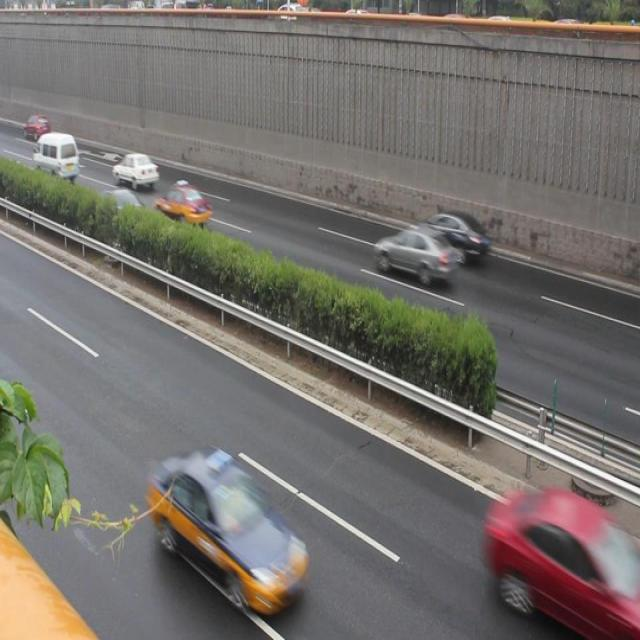car: (474, 481, 640, 640), (152, 446, 302, 605), (370, 225, 456, 286), (415, 205, 492, 266), (153, 178, 214, 228), (109, 149, 159, 192), (98, 185, 146, 227)
truck: (33, 133, 78, 181)
